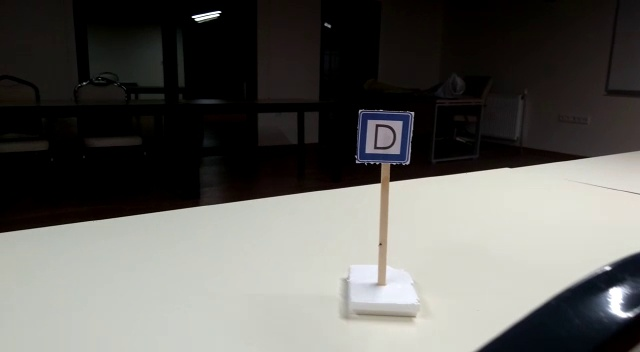durak: (355, 110, 414, 161)
